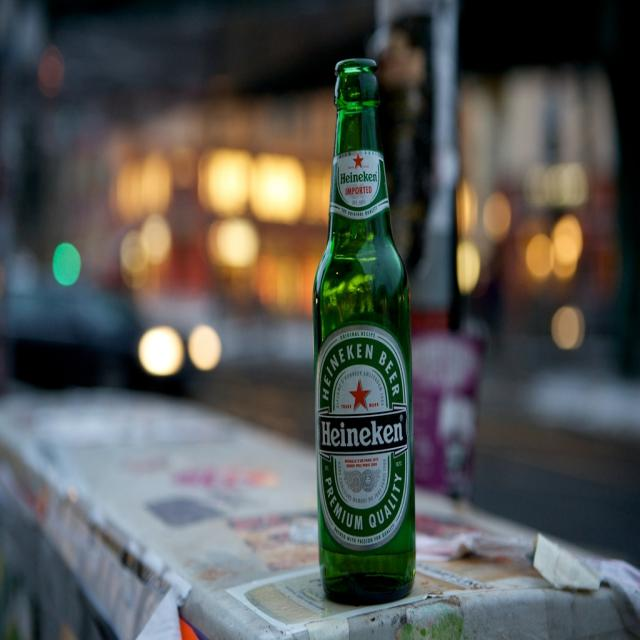heineken: (316, 323, 413, 552)
